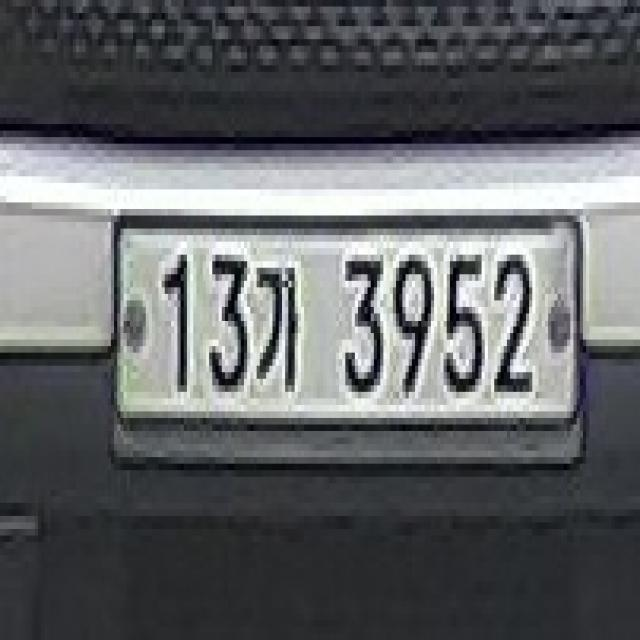1: (158, 242, 196, 398)
2: (494, 235, 545, 398)
3: (203, 242, 253, 405), (342, 248, 390, 405)
5: (440, 242, 491, 405)
9: (387, 242, 437, 412)
ga: (254, 255, 314, 405)
license_plate: (105, 189, 586, 477)
